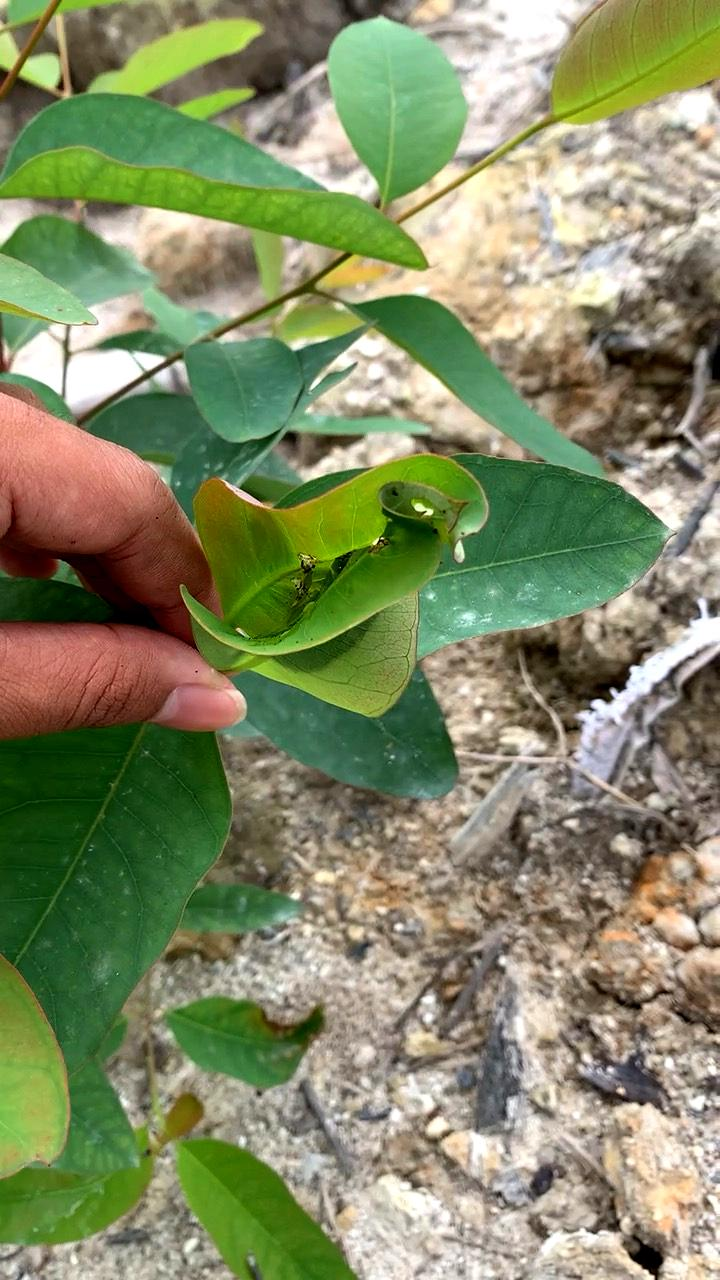Leaf Roller - Leaf: (143, 413, 505, 748)
